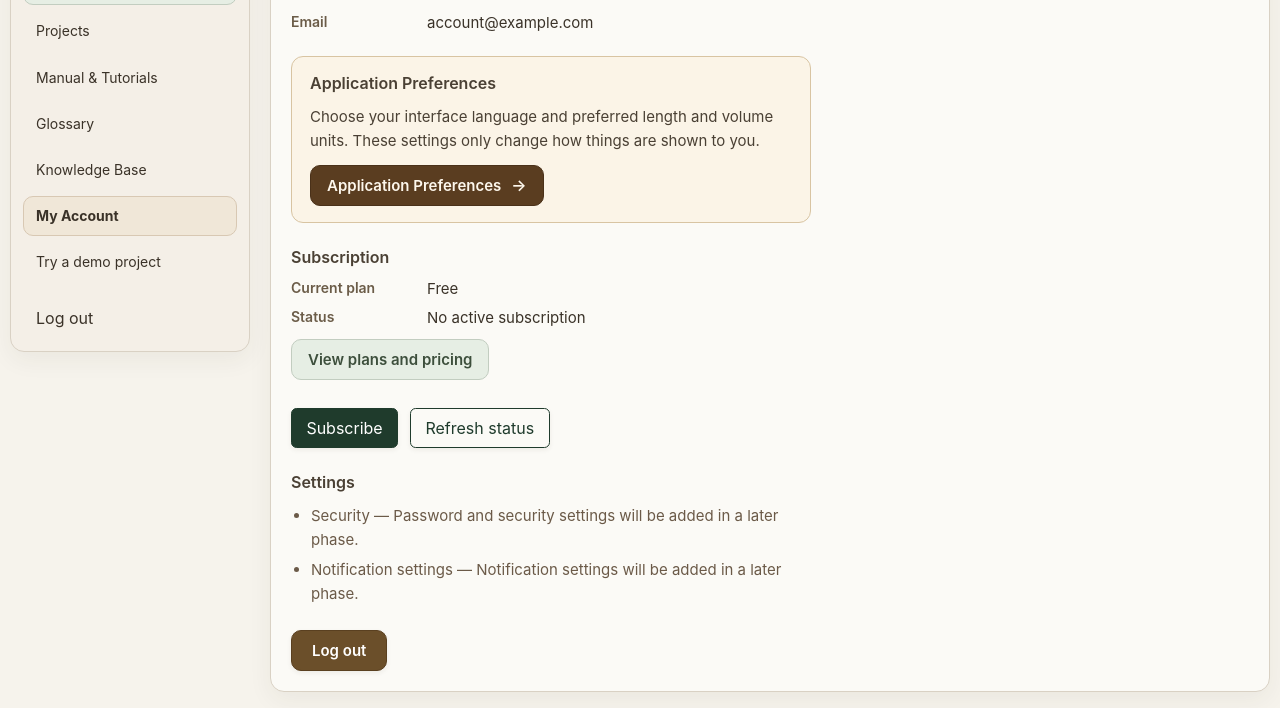
Scenario: My Account page › logs out from the account page and returns to guest login mode
(page scrolled)
Click the button "Log out" below "View plans and pricing" at (339, 650), box x1=291 y1=630 x2=387 y2=671
(page scrolled)
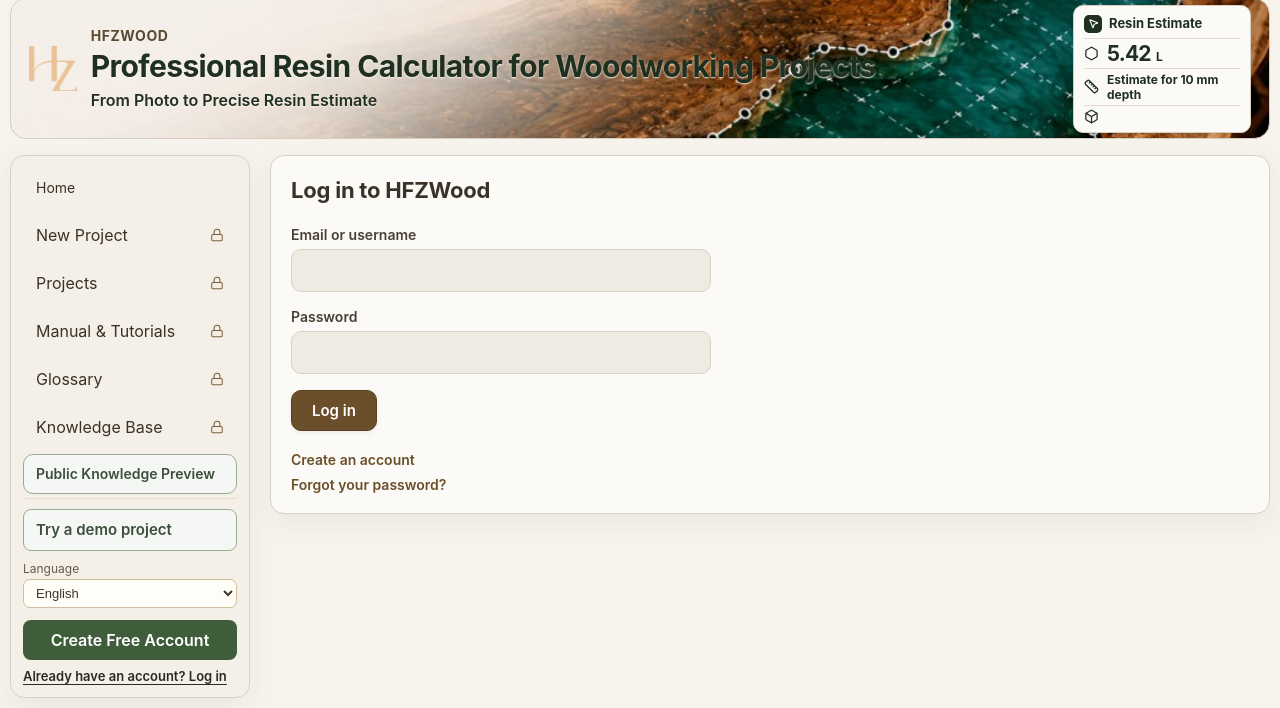
Now the heading "Log in to HFZWood" is shown, box x1=291 y1=177 x2=490 y2=203
Now the button "Log out" is gone
Now the link "Create Free Account" is shown, box x1=23 y1=620 x2=237 y2=660
